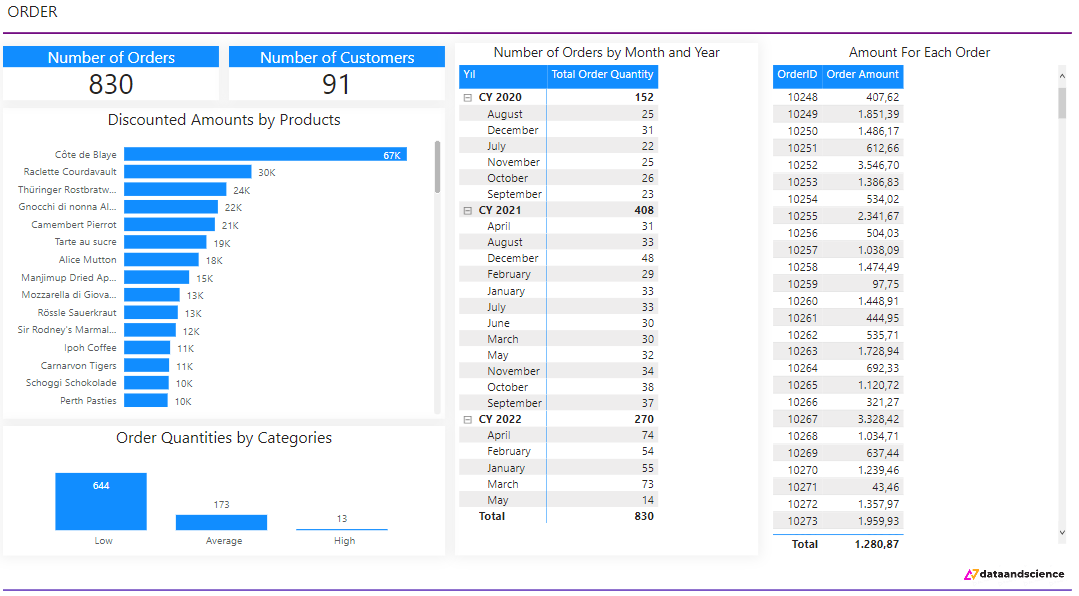

The page's visual inventory and layout, read from the dashboard file:
{"tool":"powerbi","page":{"name":"Order","canvas":[1280,720],"ordinal":0},"visuals":[{"type":"clusteredBarChart","title":"Discounted Amounts by Products","fields":{"Category":["Products.ProductName"],"Y":["Sum(Order Details.Net Amount)"]},"box":[8.5,140.6,521.8,367.4],"z":0},{"type":"tableEx","title":"Amount For Each Order","fields":{"Values":["Orders.OrderID","Measure Table.Net Amount Per Order"]},"box":[912.1,64.3,357.5,604.7],"z":1000},{"type":"card","title":"Number of Orders","fields":{"Values":["Measure Table.Total Order Quantity"]},"box":[8.1,67,255,64],"z":2000},{"type":"card","title":"Number of Customers","fields":{"Values":["Measure Table.Customers Quantity"]},"box":[275.3,67,255,64],"z":3000},{"type":"pivotTable","title":"Number of Orders by Month and Year","fields":{"Rows":["Date.Calendar Year","Date.Month Name"],"Values":["Measure Table.Total Order Quantity"]},"box":[542.5,64,357.6,605.5],"z":4000},{"type":"shape","box":[8.5,45.8,1261.9,11.7],"z":5000},{"type":"shape","box":[8.5,703.9,1261.9,11.7],"z":6000},{"type":"textbox","box":[8.5,8.5,300.3,37.3],"z":7000},{"type":"columnChart","title":"Order Quantities by Categories","fields":{"Y":["CountNonNull(Table.OrderID)"],"Category":["Table.Priorityy"]},"box":[8.5,516.5,521.8,153.3],"z":8000},{"type":"image","box":[1133.5,674.9,137,35.1],"z":9000}]}

Visuals, with their boxes in screenshot pixels (x1, y1, x2, y2), scaled from the page's 1280x720 canvas onto the 1079x596 screenshot:
"Discounted Amounts by Products" clusteredBarChart: {"left": 7, "top": 116, "right": 447, "bottom": 421}
"Amount For Each Order" tableEx: {"left": 769, "top": 53, "right": 1070, "bottom": 554}
"Number of Orders" card: {"left": 7, "top": 55, "right": 222, "bottom": 108}
"Number of Customers" card: {"left": 232, "top": 55, "right": 447, "bottom": 108}
"Number of Orders by Month and Year" pivotTable: {"left": 457, "top": 53, "right": 759, "bottom": 554}
shape: {"left": 7, "top": 38, "right": 1071, "bottom": 48}
shape: {"left": 7, "top": 583, "right": 1071, "bottom": 592}
textbox: {"left": 7, "top": 7, "right": 260, "bottom": 38}
"Order Quantities by Categories" columnChart: {"left": 7, "top": 428, "right": 447, "bottom": 554}
image: {"left": 956, "top": 559, "right": 1071, "bottom": 588}
